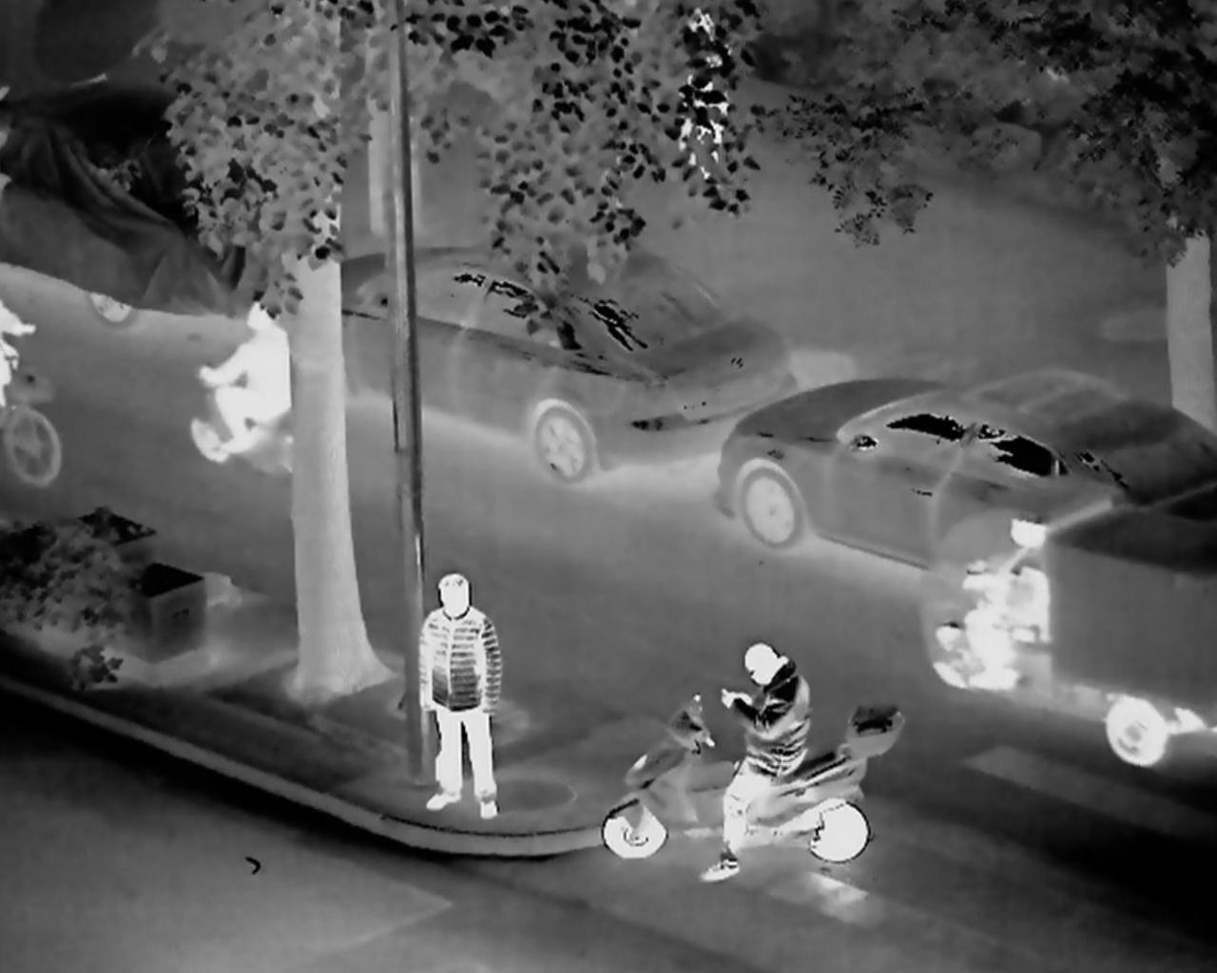person: (391, 566, 522, 823), (700, 643, 811, 881), (182, 280, 306, 478), (972, 506, 1056, 675), (676, 7, 741, 221)
